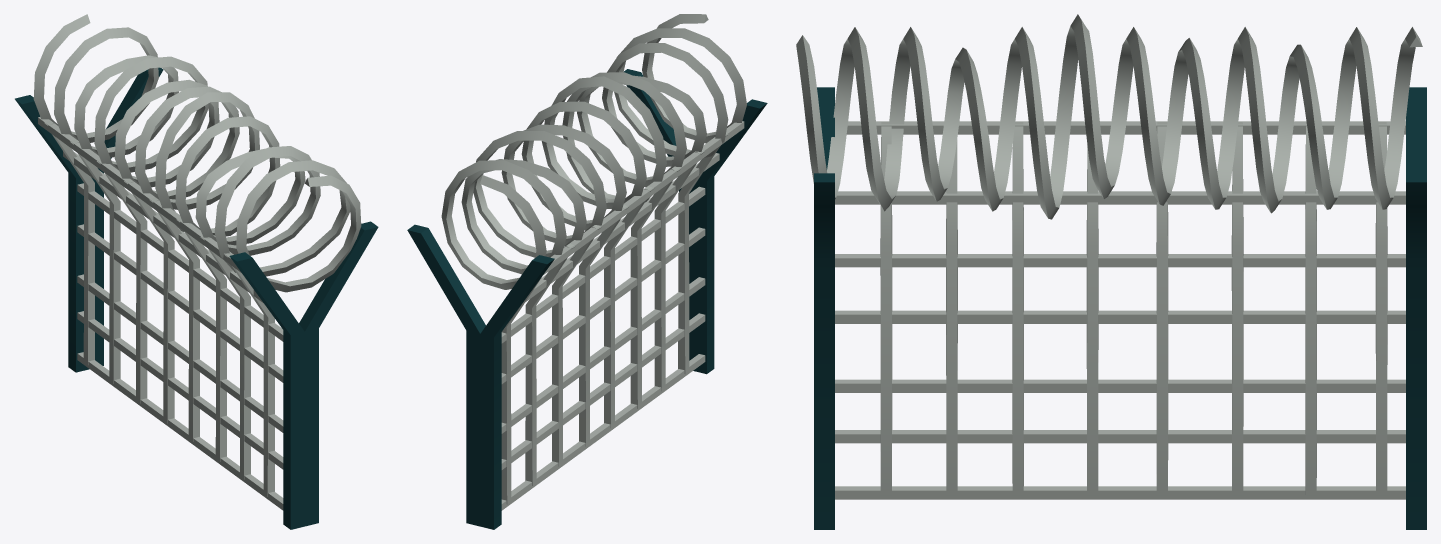
Rendered from kemgai.fbx.
3 renders of one model, left to right at view 1: azimuth 30°, elevation 25°; view 2: azimuth 150°, elevation 25°; view 3: azimuth 270°, elevation 25°, orthographic. The views are drawn at different scales.
Parts seen in each view (by area): view 1: kemgai; view 2: kemgai; view 3: kemgai.
Part boxes in pixels (left/top/right/bottom): kemgai: left=15, top=14, right=378, bottom=529; kemgai: left=407, top=14, right=767, bottom=529; kemgai: left=796, top=14, right=1426, bottom=529.
Size of the model in its own units: 133 by 325 by 371.
